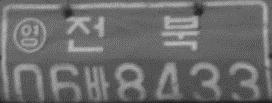0: (11, 62, 45, 103)
3: (189, 60, 222, 103), (228, 61, 261, 103)
4: (154, 60, 185, 103)
6: (49, 62, 82, 103)
8: (114, 61, 148, 103)
바: (83, 64, 109, 102)
영: (12, 17, 47, 54)
전북_D: (64, 14, 200, 53)
